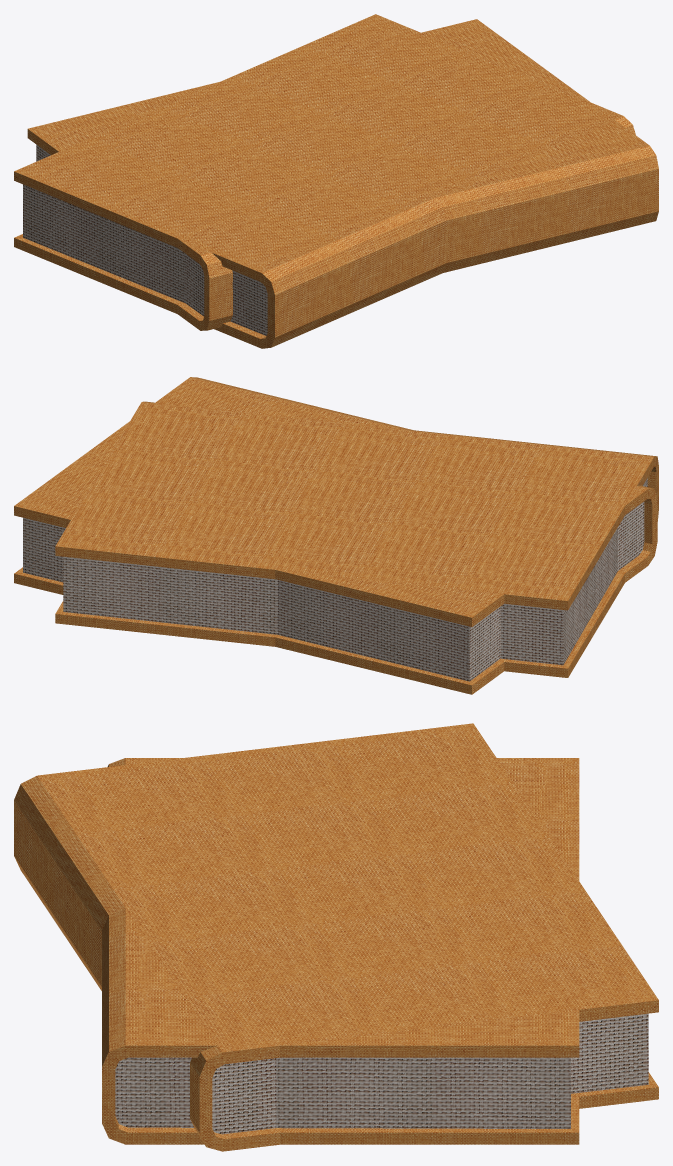
Rendered from Books.glb.
3 renders of one model, top to bottom at view 1: azimuth 30°, elevation 25°; view 2: azimuth 150°, elevation 25°; view 3: azimuth 270°, elevation 25°, orthographic. The views are drawn at different scales.
Parts seen in each view (by area): view 1: Book3, Book2, Book1; view 2: Book3, Book2, Book1; view 3: Book3, Book2, Book1.
Boxes of the visible parts, bbox=[...] form: Book3: bbox=[14, 14, 622, 338]; Book2: bbox=[27, 19, 658, 330]; Book1: bbox=[14, 116, 635, 348]; Book3: bbox=[55, 402, 656, 677]; Book2: bbox=[14, 377, 657, 694]; Book1: bbox=[143, 401, 658, 677]; Book3: bbox=[37, 723, 658, 1151]; Book2: bbox=[102, 758, 579, 1144]; Book1: bbox=[14, 776, 657, 1148].
Bounding box in the file's own units: 0.5894 × 0.0821 × 0.4841.
Materials: 6 (6 with a texture image).
